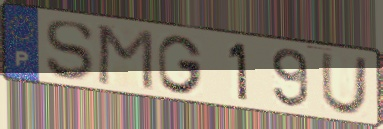1: (226, 41, 251, 103)
9: (269, 47, 311, 110)
G: (155, 32, 205, 96)
M: (95, 23, 156, 94)
S: (43, 19, 96, 82)
U: (318, 51, 370, 117)
